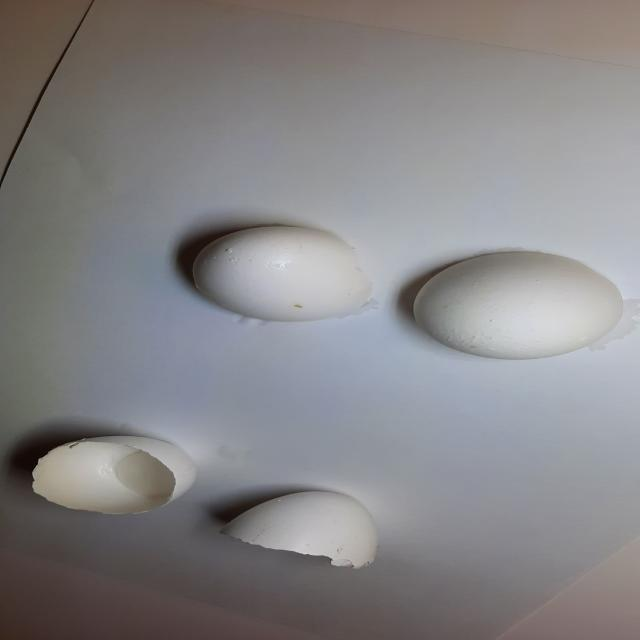egg shell: (390, 246, 640, 367), (164, 212, 390, 335), (4, 414, 213, 522), (206, 480, 402, 572)
